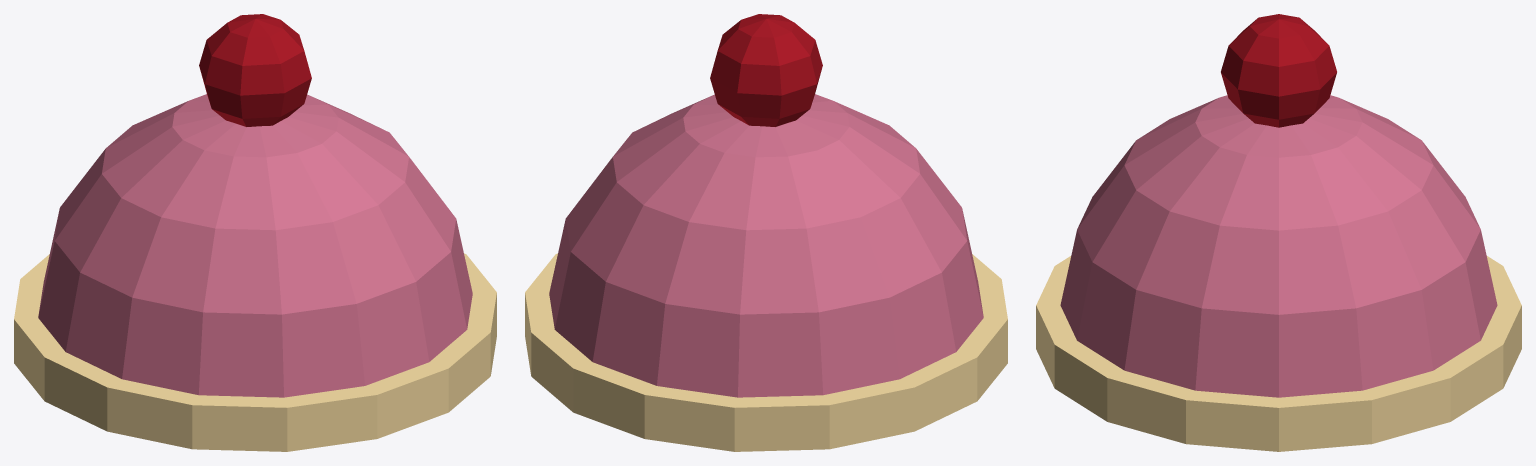
Rendered from dome.glb.
3 views of the same model, side by side, from view 1: azimuth 30°, elevation 25°; view 2: azimuth 150°, elevation 25°; view 3: azimuth 270°, elevation 25° (orthographic).
Visible parts, largest first — view 1: Dome; view 2: Dome; view 3: Dome.
Boxes of the visible parts, x1,y1,x2,y2 form: Dome: (14,14,496,451); Dome: (525,14,1007,451); Dome: (1036,14,1521,451).
Size of the model in its own units: 1 by 0.75 by 1.
